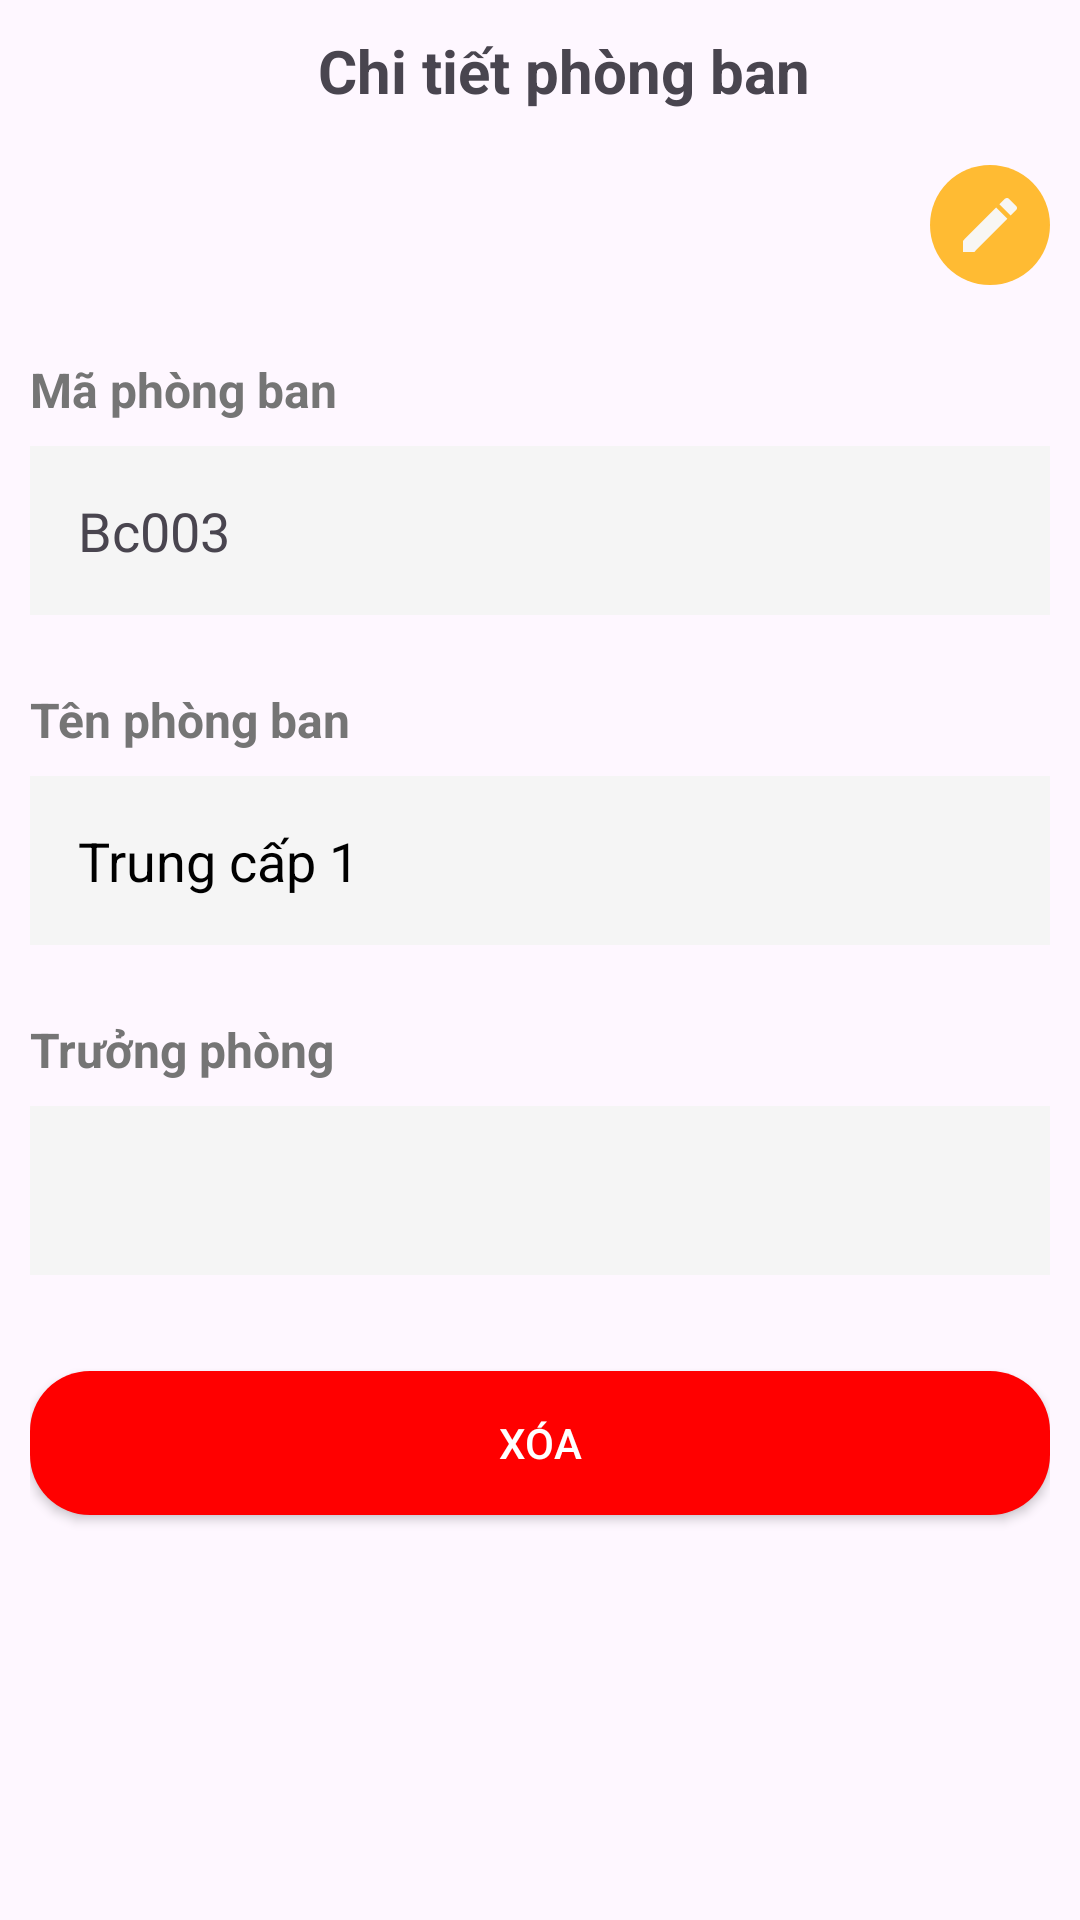

Icons on this 1080w x 1920h Android screen, each with the point to tap as (x,y):
edit: (990,225)
